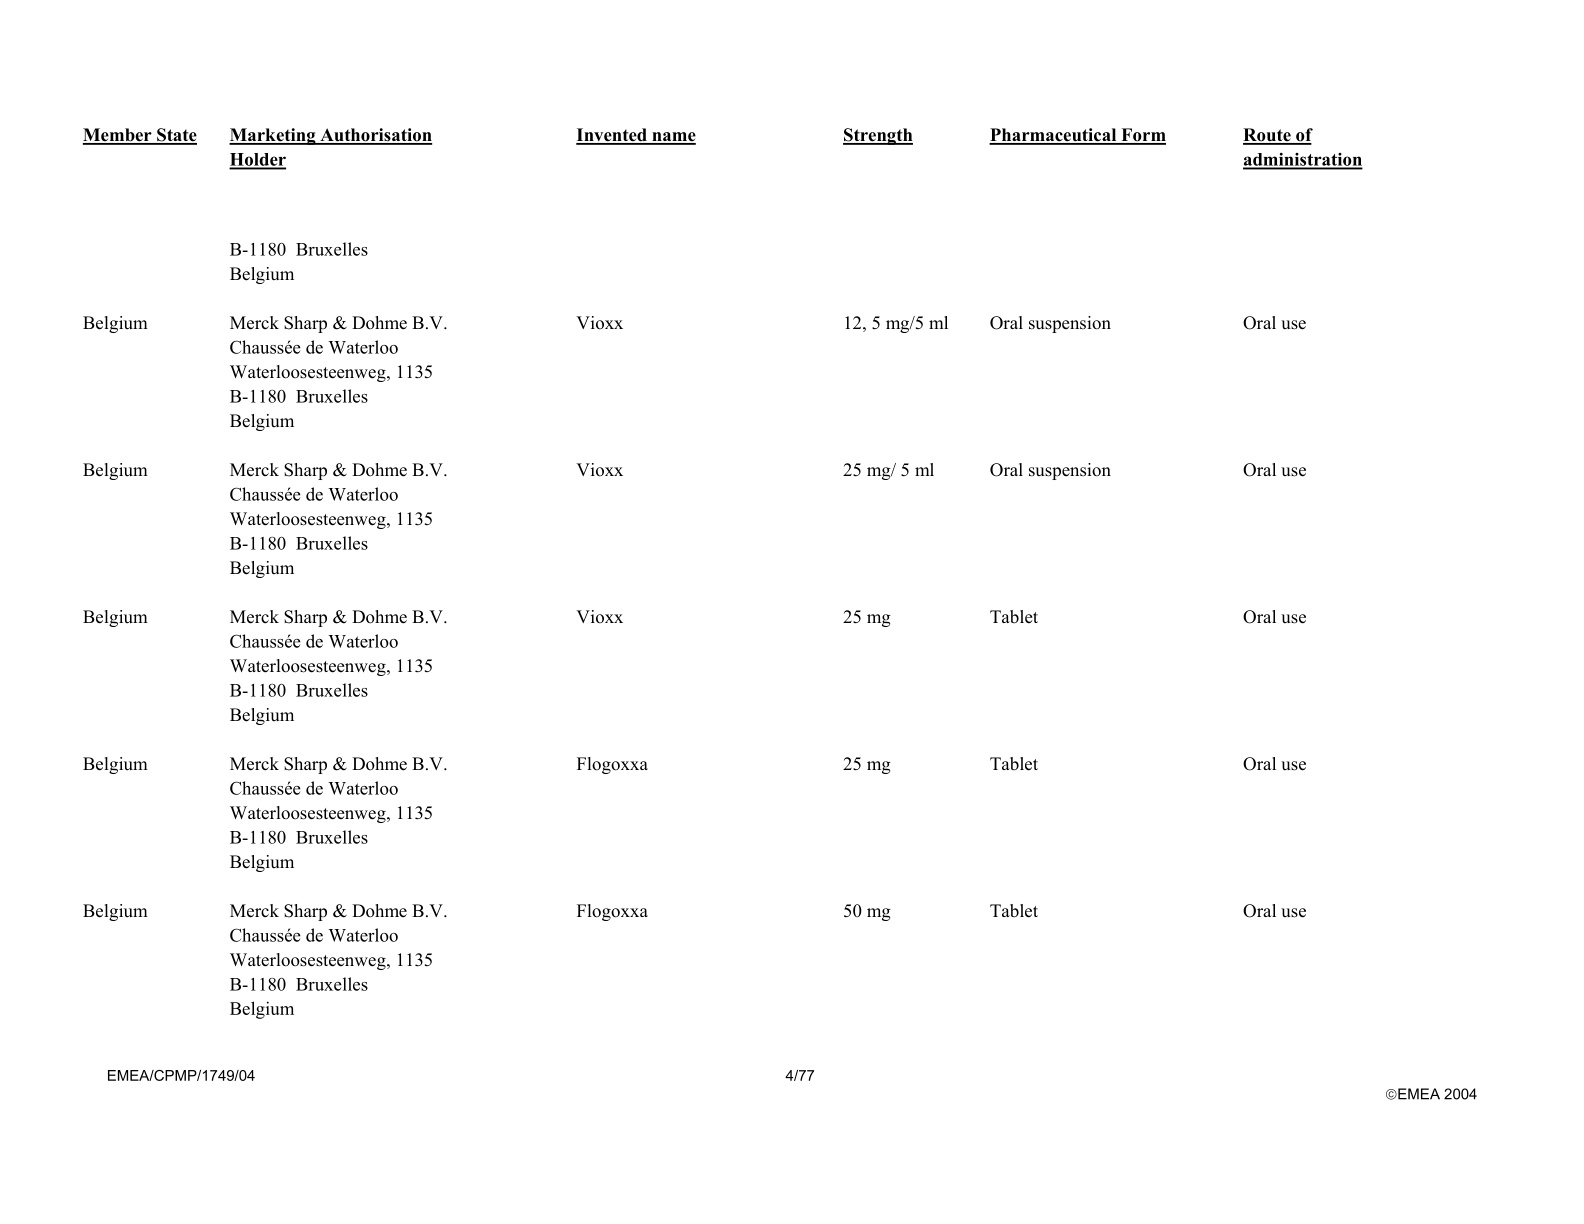nolines: (78, 122, 1365, 1020)
